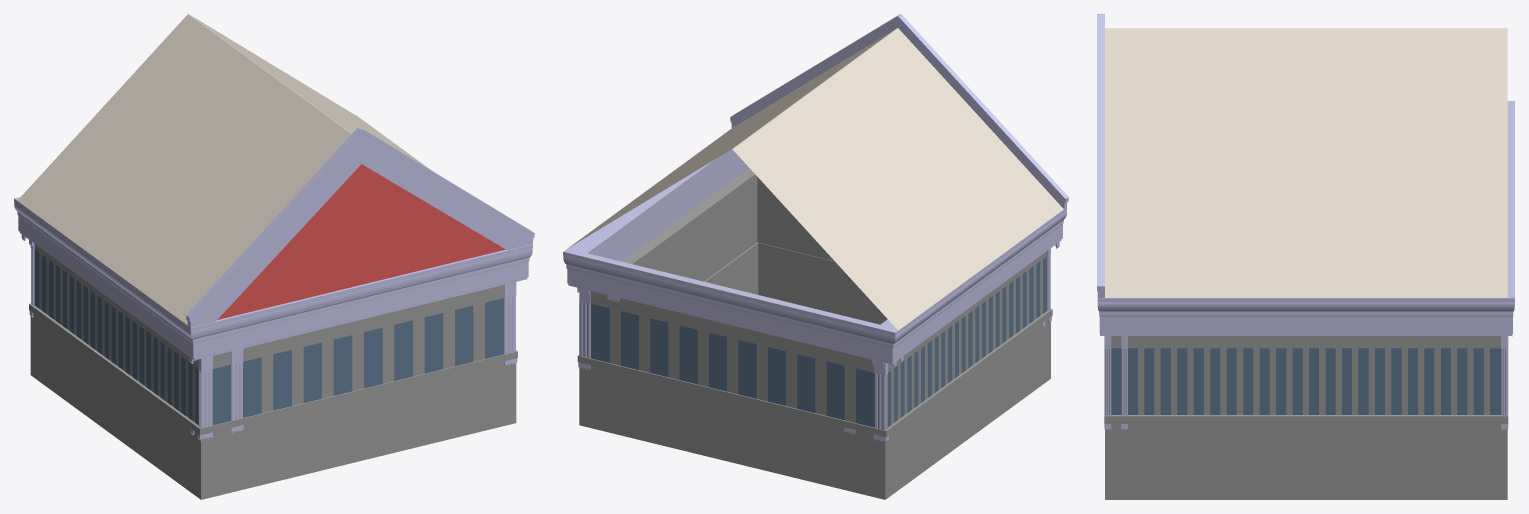
Rendered from top.glb.
3 views of the same model, side by side, from view 1: azimuth 30°, elevation 25°; view 2: azimuth 150°, elevation 25°; view 3: azimuth 270°, elevation 25° (orthographic). The views are drawn at different scales.
Parts seen in each view (by area): view 1: TA1; view 2: TA1; view 3: TA1.
Boxes of the visible parts, left/top/right/bottom form: TA1: left=14, top=14, right=534, bottom=499; TA1: left=563, top=14, right=1068, bottom=499; TA1: left=1097, top=14, right=1514, bottom=499.
Size of the model in its own units: 2.19 by 2.03 by 1.94.
